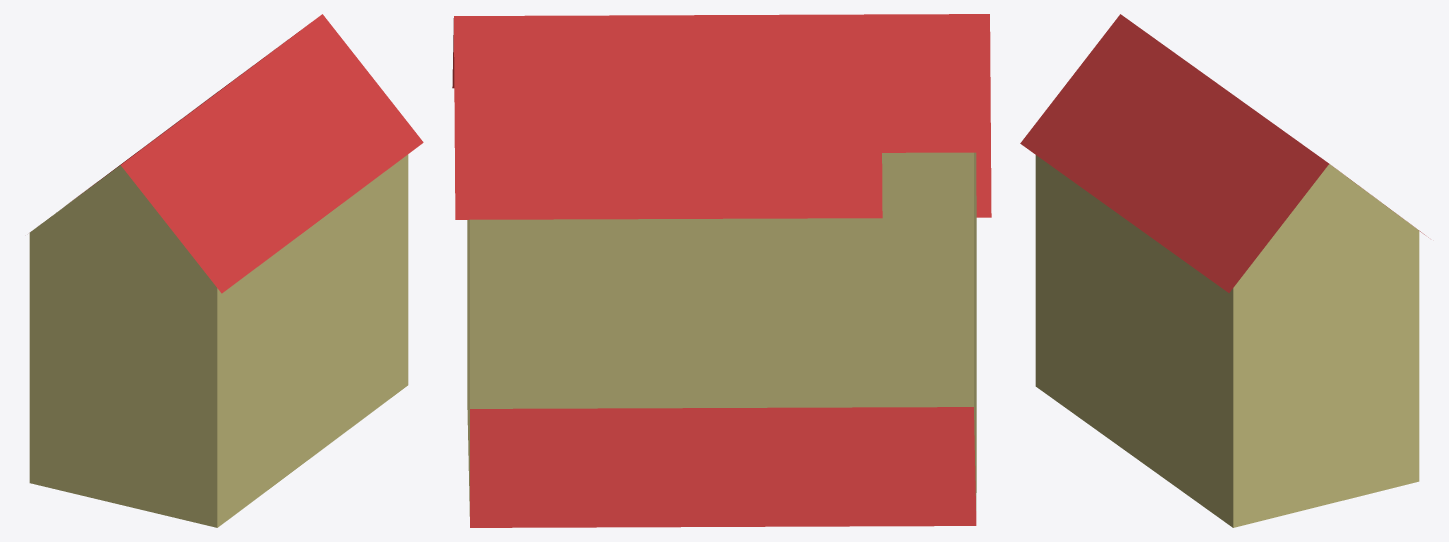
The picture shows the model from 3 angles, left to right: view 1: azimuth 30°, elevation 25°; view 2: azimuth 150°, elevation 25°; view 3: azimuth 270°, elevation 25°; orthographic projection. The views are drawn at different scales.
Bounding box in the file's own units: 20.84 × 18.17 × 16.72.
